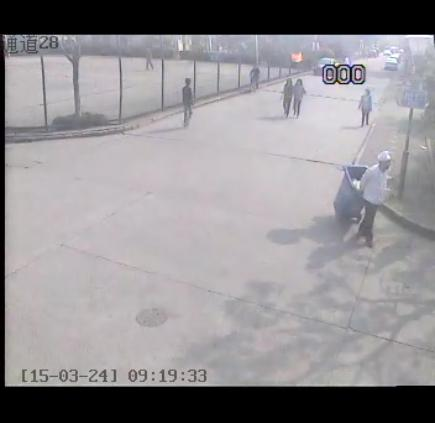person: (357, 149, 393, 250), (179, 76, 197, 131), (289, 76, 309, 119), (356, 87, 375, 129), (281, 75, 295, 120), (143, 44, 156, 76)
